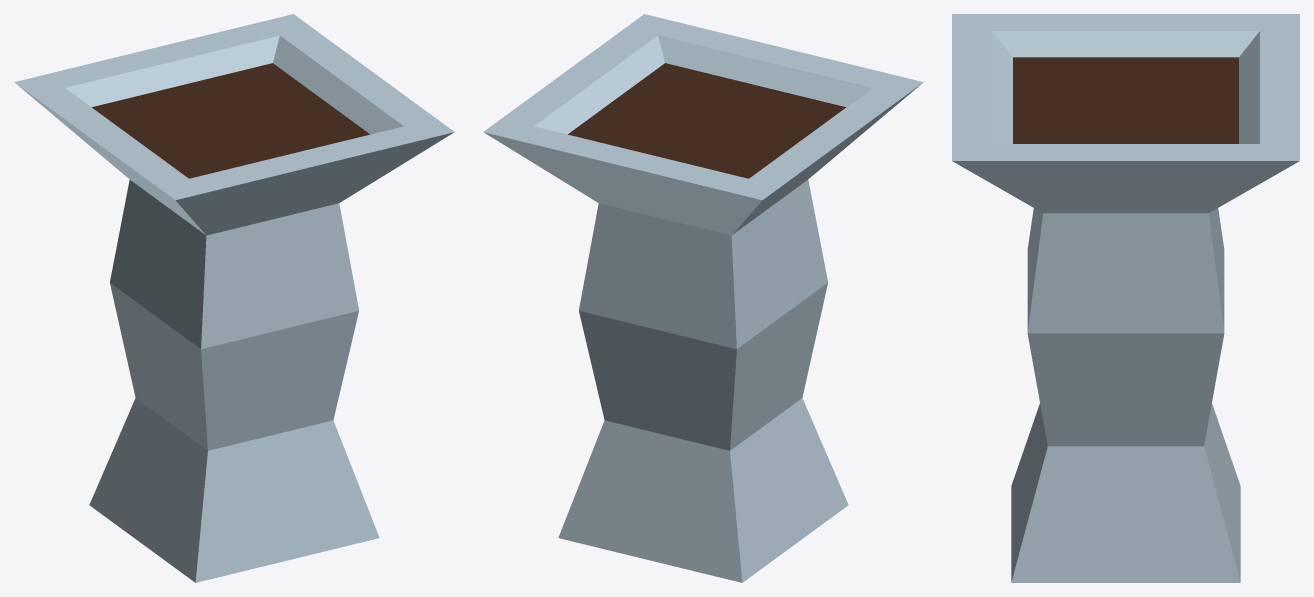
The model's file is flower_pot_long3.fbx.
The picture shows the model from 3 angles, left to right: view 1: azimuth 30°, elevation 25°; view 2: azimuth 150°, elevation 25°; view 3: azimuth 270°, elevation 25°; orthographic projection. The views are drawn at different scales.
Visible parts, largest first — view 1: flower_pot_long3; view 2: flower_pot_long3; view 3: flower_pot_long3.
Part boxes in pixels (<box>): flower_pot_long3: <box>14,14,454,582</box>; flower_pot_long3: <box>483,14,923,582</box>; flower_pot_long3: <box>952,14,1299,582</box>.
Bounding box in the file's own units: 49.73 × 49.73 × 70.48.
